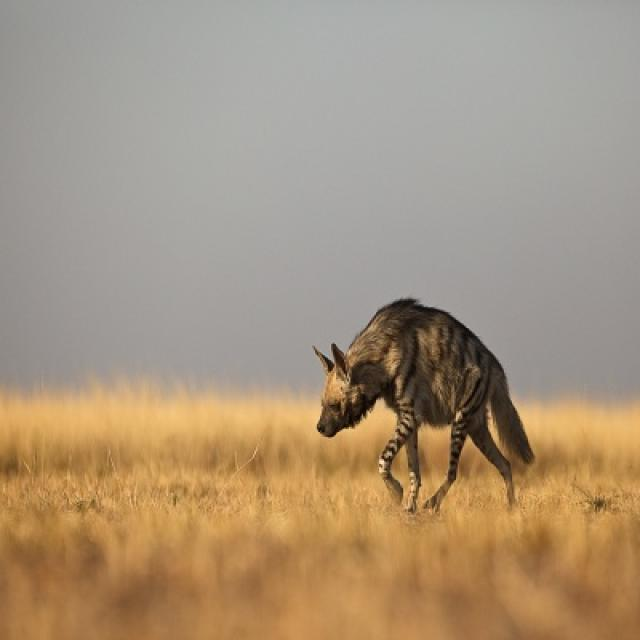hyena: (315, 299, 536, 514)
